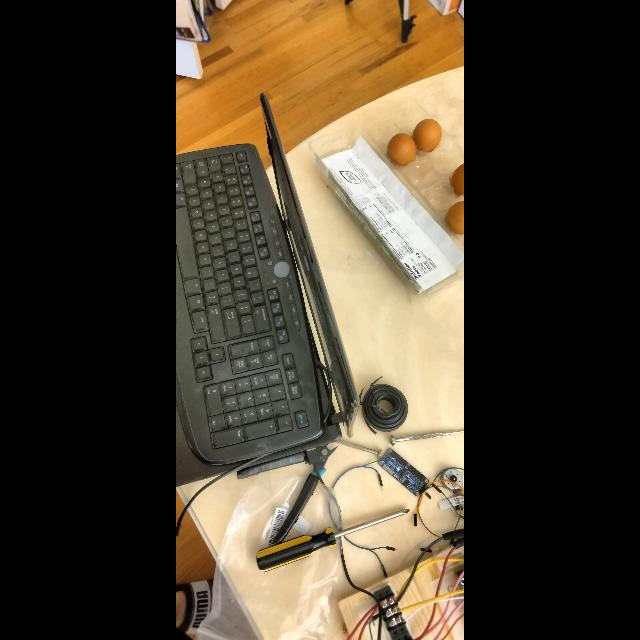Egg: (410, 114, 444, 160), (386, 132, 420, 170), (438, 198, 464, 242), (444, 154, 464, 206)
